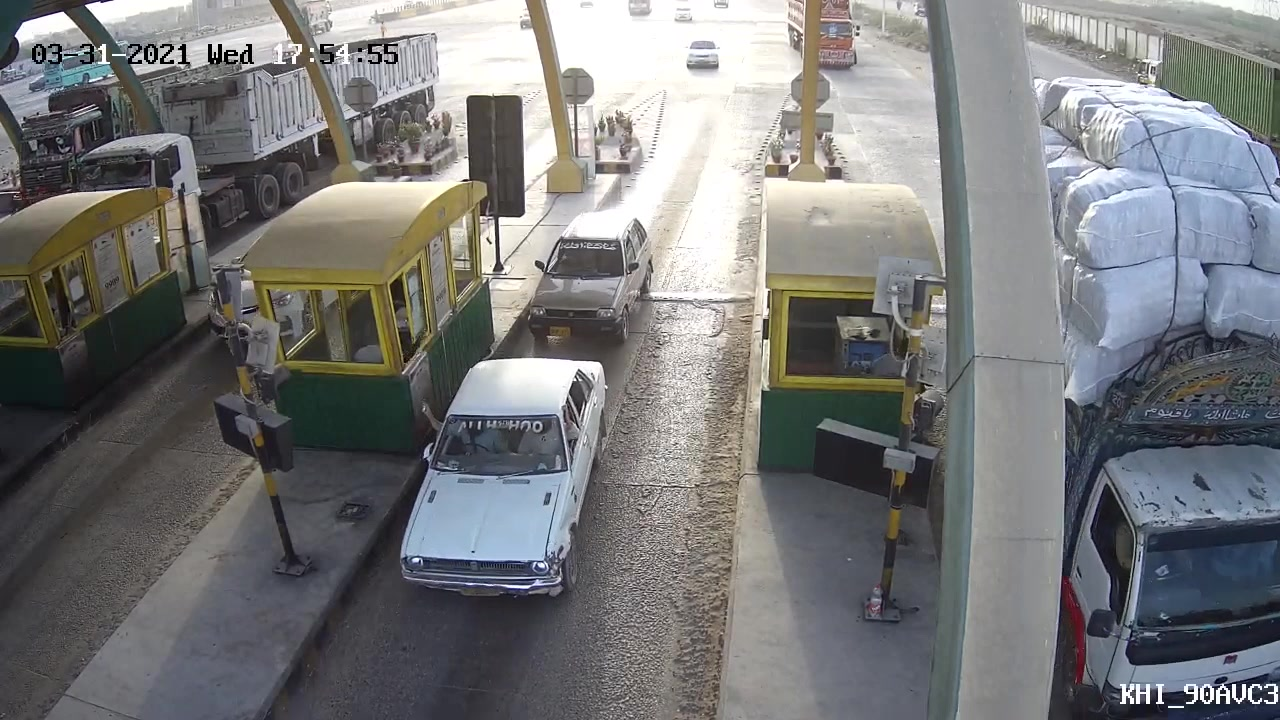F1: (391, 356, 610, 605), (519, 209, 661, 346)
